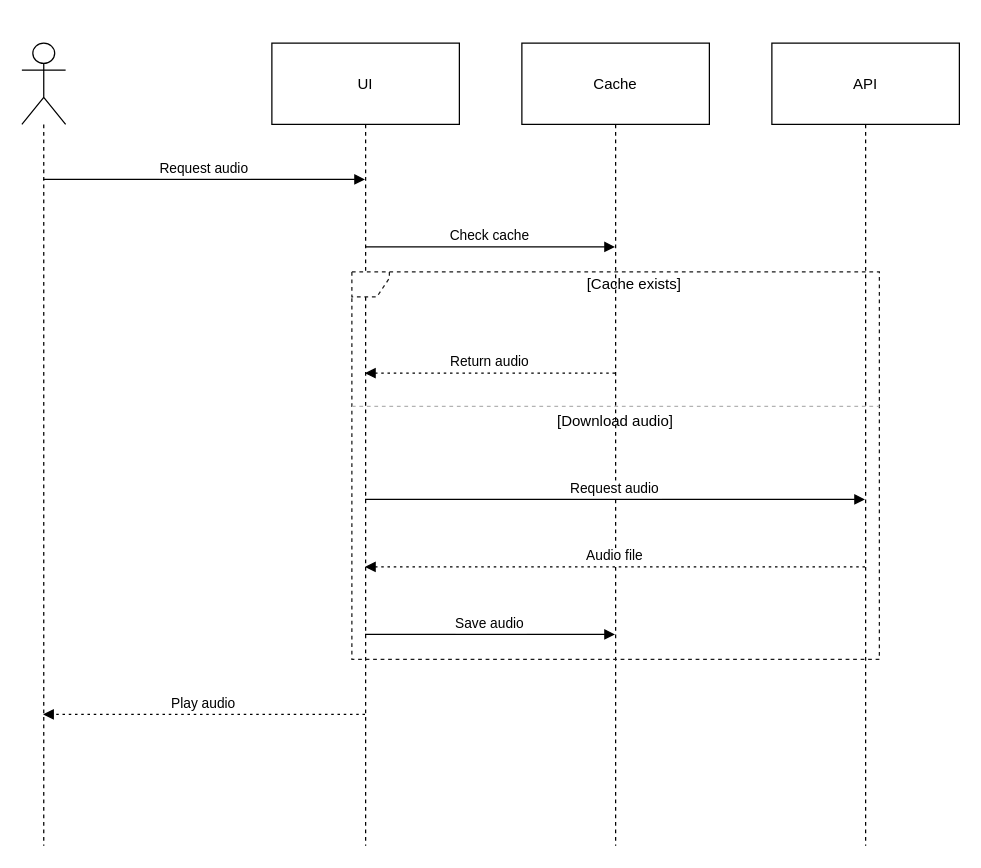
The diagram is 981 pixels wide and 868 high, and some of its shapes have lost their labels. Each missing label, with the box of its shape:
alt: (351, 271, 879, 659)
User: (21, 42, 66, 846)
